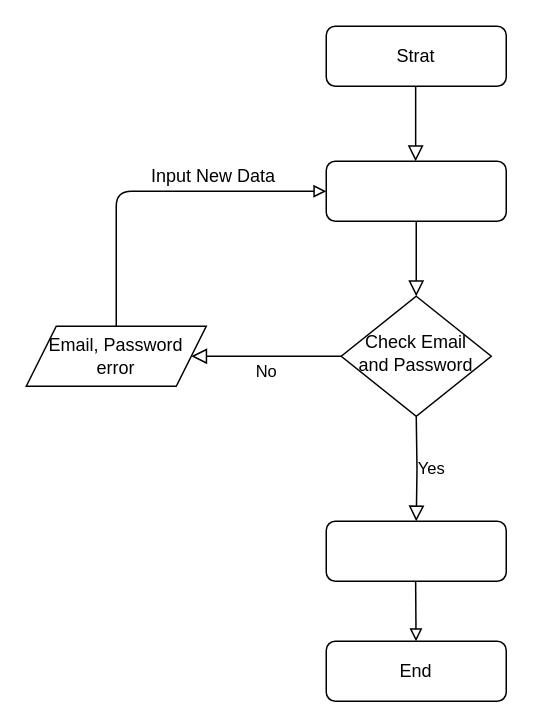
Some shapes in this 533 by 728 pixel diagram are drawn without their labels. Each missing label, with the box of its shape:
input Email, Password: (325, 160, 506, 221)
เข้าสู่ระบบ: (325, 520, 506, 581)
